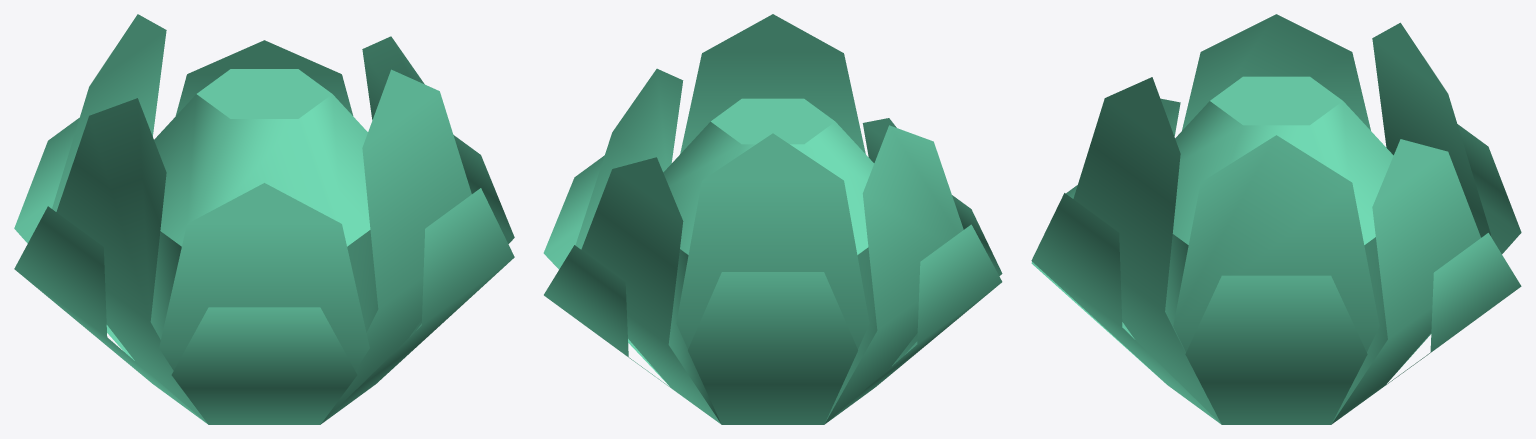
The model's file is cabbage.obj.
The picture shows the model from 3 angles, left to right: view 1: azimuth 30°, elevation 25°; view 2: azimuth 150°, elevation 25°; view 3: azimuth 270°, elevation 25°; orthographic projection. The views are drawn at different scales.
Visible parts, largest first — view 1: cabbage; view 2: cabbage; view 3: cabbage.
Part boxes in pixels (<box>): cabbage: <box>14,14,514,424</box>; cabbage: <box>543,14,1002,424</box>; cabbage: <box>1031,14,1521,424</box>.
Bounding box in the file's own units: 0.3794 × 0.3074 × 0.4036.
